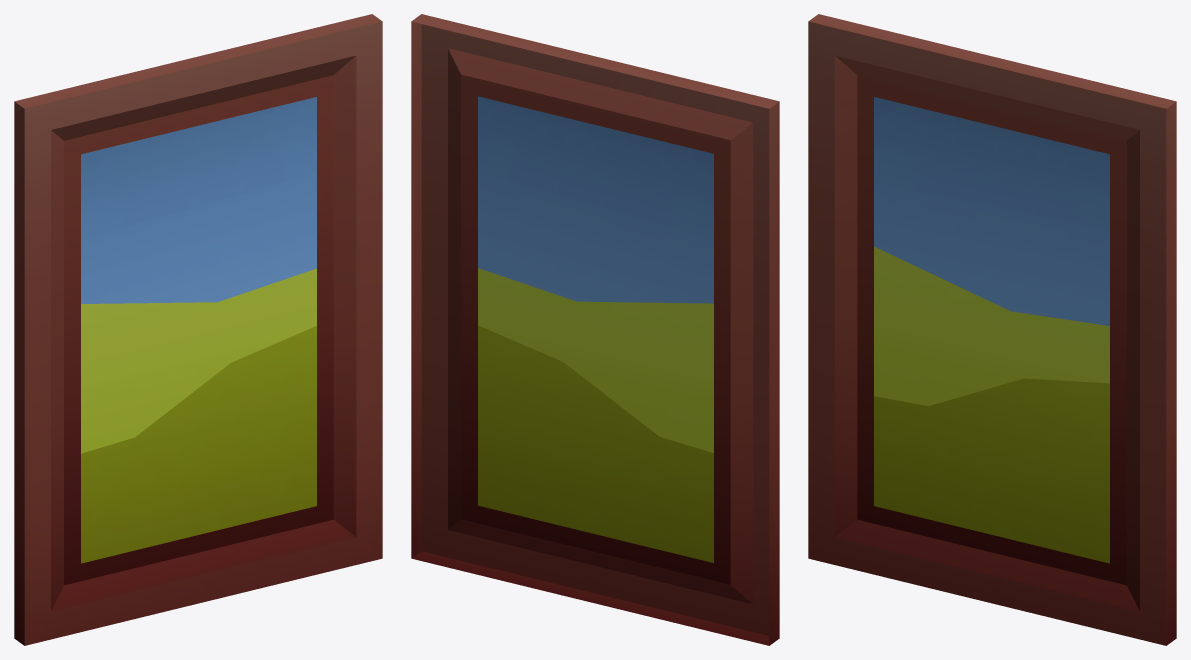
Rendered from SM_Portrait_02.fbx.
The picture shows the model from 3 angles, left to right: view 1: azimuth 30°, elevation 25°; view 2: azimuth 150°, elevation 25°; view 3: azimuth 330°, elevation 25°; orthographic projection.
Visible parts, largest first — view 1: SM_Portrait_02; view 2: SM_Portrait_02; view 3: SM_Portrait_02.
Part boxes in pixels (box(x1,y1,x2,y2)): SM_Portrait_02: box(14, 14, 382, 645); SM_Portrait_02: box(411, 14, 779, 645); SM_Portrait_02: box(808, 14, 1176, 645).
Bounding box in the file's own units: 0.6771 × 0.9704 × 0.0335.
